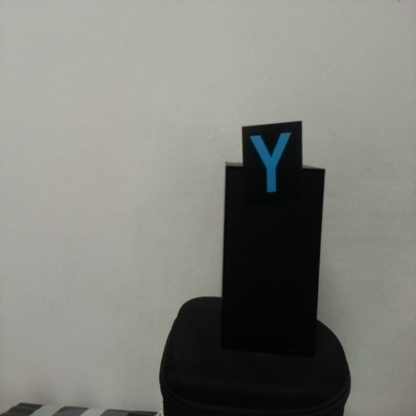id_14: (241, 125, 304, 204)
